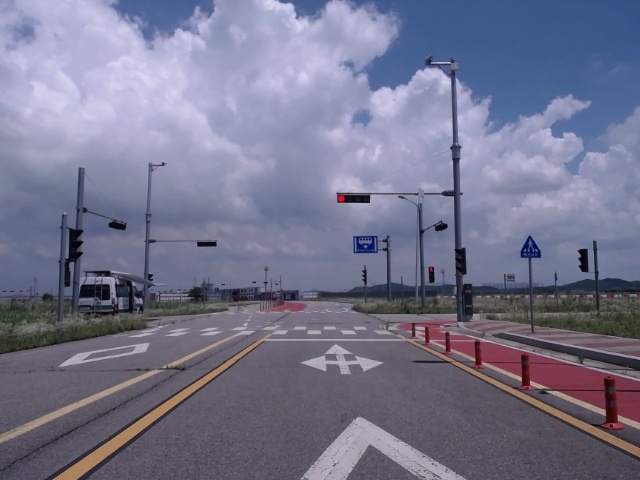red_4: (337, 194, 370, 203)
